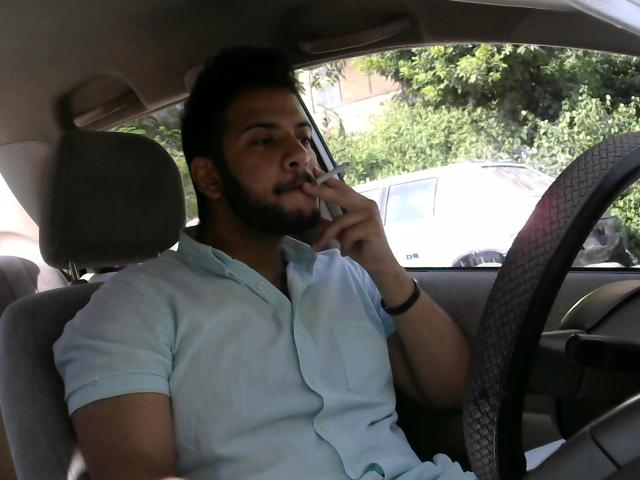Smoking: (298, 161, 346, 199)
